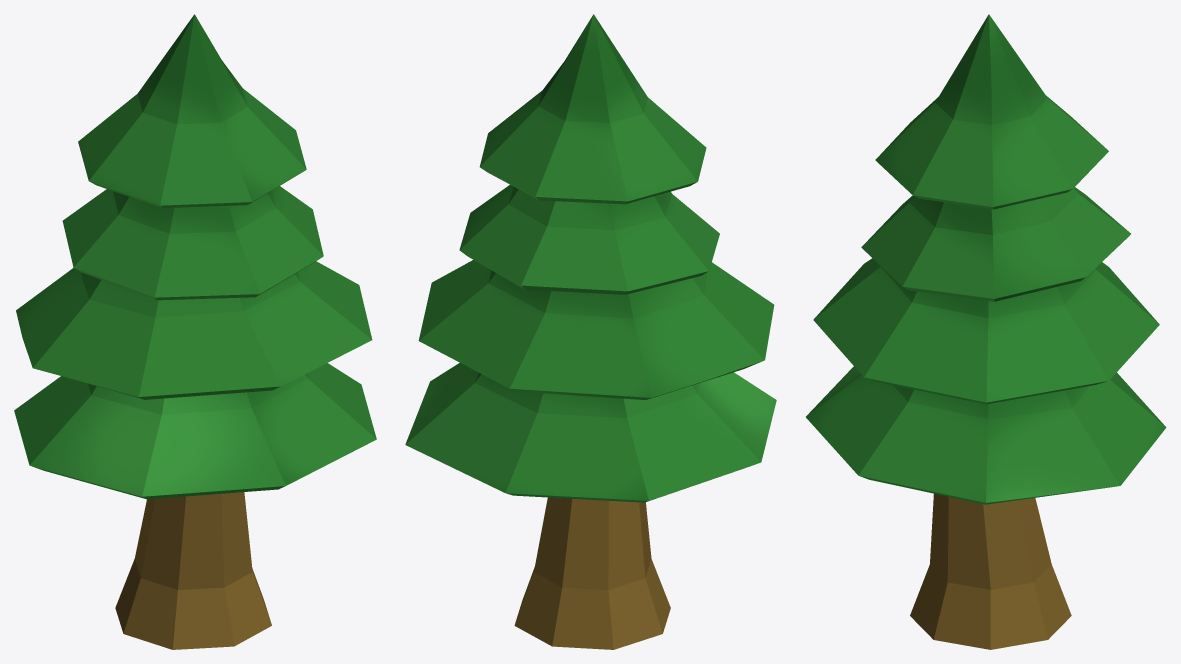
File: TallWinterTree1.glb
3 views of the same model, side by side, from view 1: azimuth 30°, elevation 25°; view 2: azimuth 150°, elevation 25°; view 3: azimuth 270°, elevation 25° (orthographic).
Parts seen in each view (by area): view 1: Cylinder.004, Cylinder; view 2: Cylinder.004, Cylinder; view 3: Cylinder.004, Cylinder.
Boxes of the visible parts, x1,y1,x2,y2 form: Cylinder.004: (14, 14, 376, 499); Cylinder: (115, 492, 271, 649); Cylinder.004: (405, 14, 776, 502); Cylinder: (514, 497, 670, 649); Cylinder.004: (806, 14, 1166, 504); Cylinder: (910, 493, 1071, 649).
Size of the model in its own units: 7.48 by 12.98 by 7.06.
Materials: 2 (2 with a texture image).
